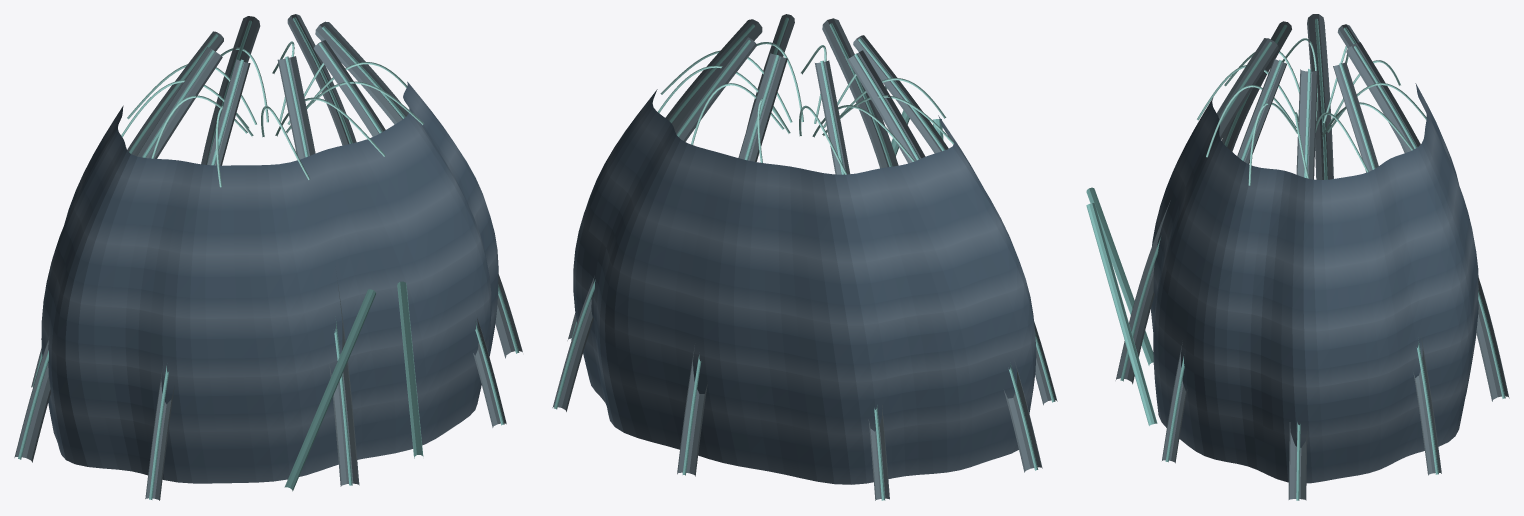
File: hexcore_destination_02.glb
3 renders of one model, left to right at view 1: azimuth 30°, elevation 25°; view 2: azimuth 150°, elevation 25°; view 3: azimuth 270°, elevation 25°, orthographic. The views are drawn at different scales.
Visible parts, largest first — view 1: world; view 2: world; view 3: world.
Boxes of the visible parts, bbox=[...] form: world: bbox=[14, 14, 522, 500]; world: bbox=[552, 14, 1057, 500]; world: bbox=[1086, 14, 1509, 500].
Bounding box in the file's own units: 39.11 × 28.82 × 31.06.
